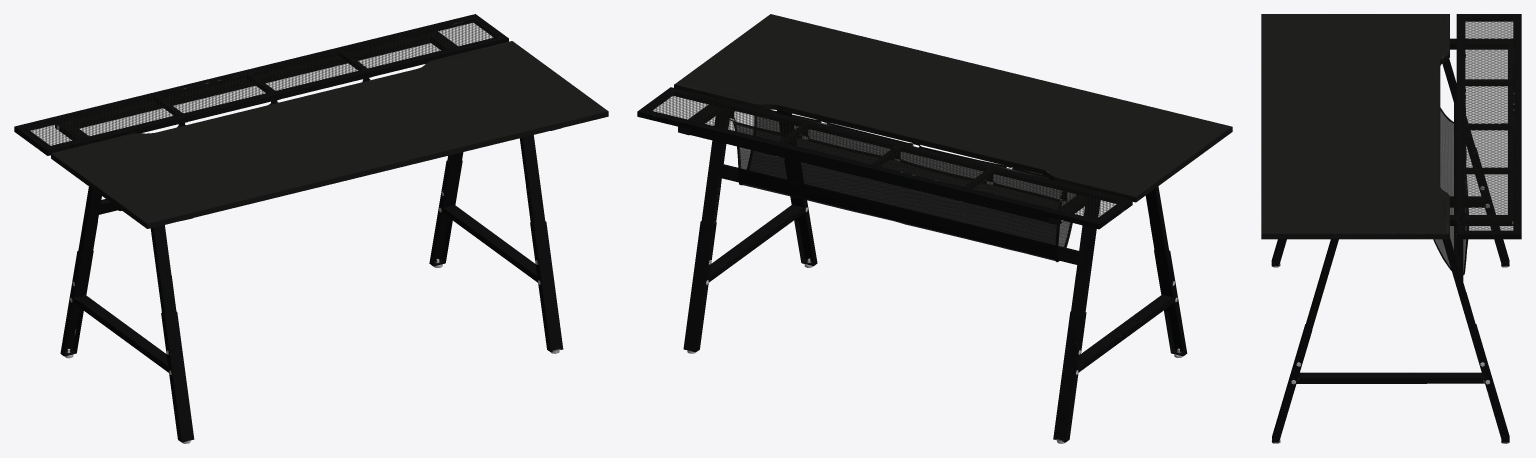
The picture shows the model from 3 angles, left to right: view 1: azimuth 30°, elevation 25°; view 2: azimuth 150°, elevation 25°; view 3: azimuth 270°, elevation 25°; orthographic projection. The views are drawn at different scales.
Visible parts, largest first — view 1: Mesh_0, Mesh_1; view 2: Mesh_0, Mesh_1; view 3: Mesh_0, Mesh_1.
Part boxes in pixels (x1=…): Mesh_0: x1=14, y1=14, x2=608, y2=443; Mesh_1: x1=27, y1=19, x2=496, y2=210; Mesh_0: x1=637, y1=14, x2=1232, y2=443; Mesh_1: x1=650, y1=92, x2=1120, y2=262; Mesh_0: x1=1261, y1=14, x2=1521, y2=443; Mesh_1: x1=1433, y1=17, x2=1515, y2=274.
Size of the model in its own units: 1.6 by 0.7807 by 0.7994.
Materials: 2 (2 with a texture image).
